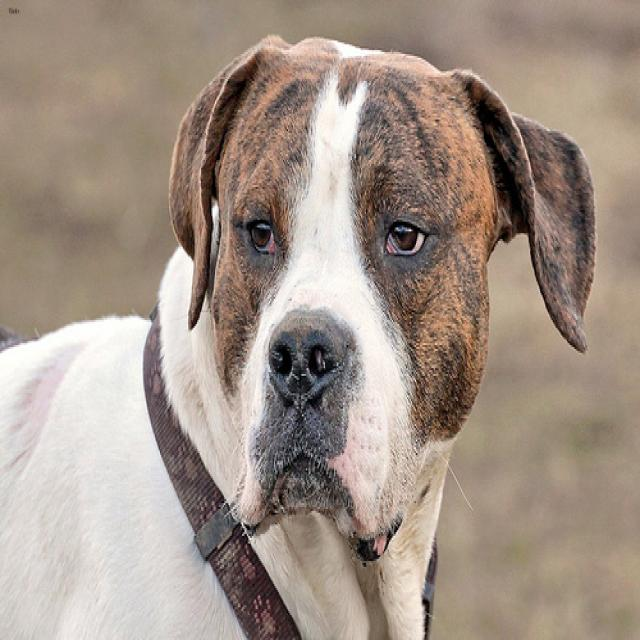dog-american_bulldog: (1, 23, 602, 636)
